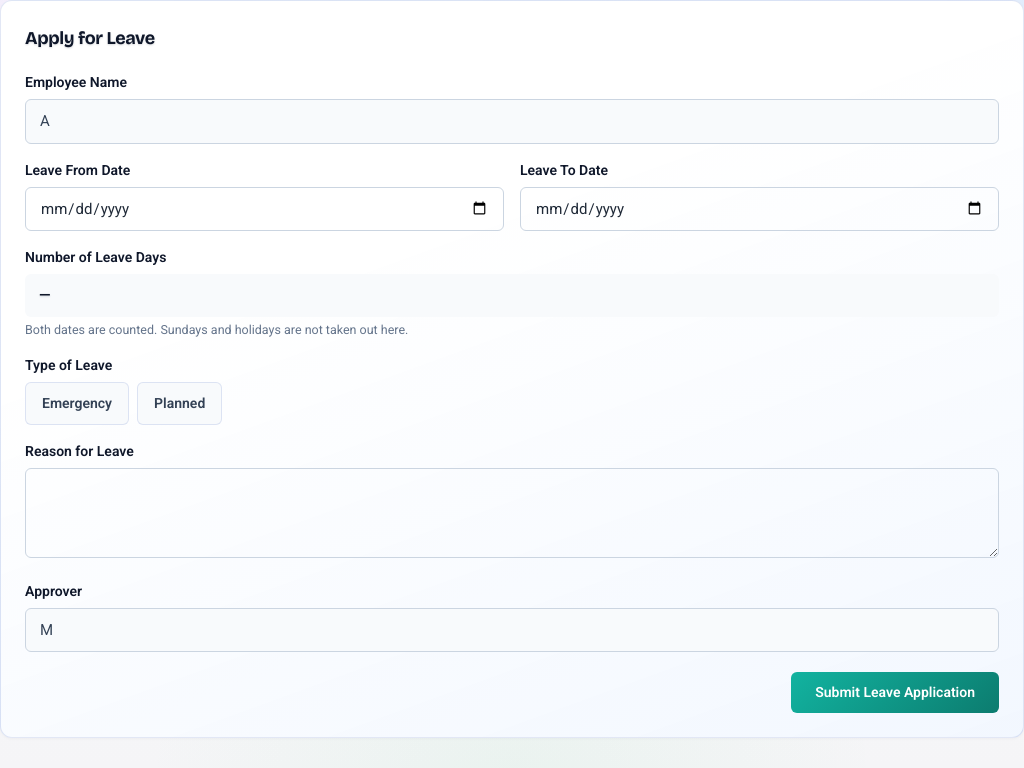
Test: ApplyLeaveForm › calculates the inclusive day count as the dates change
Type "2026-09-15" into the date field labelled "Leave From Date" at (264, 209), box [25,186,504,231]
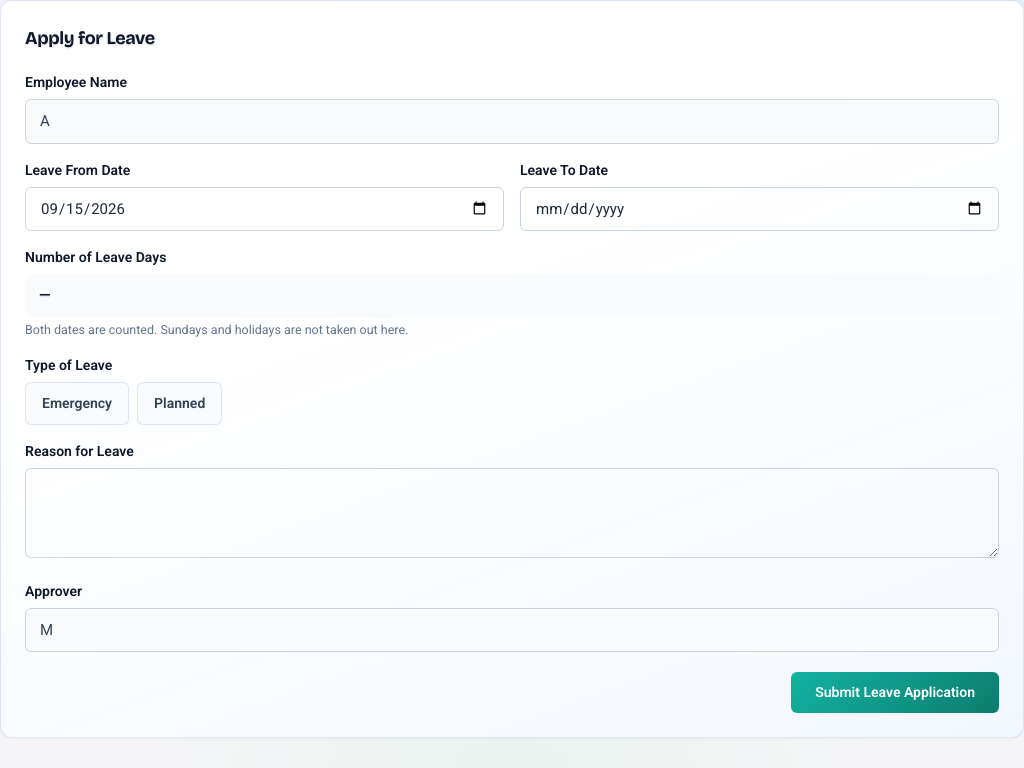
Type "2026-09-21" into the date field labelled "Leave To Date" at (760, 209), box [520,186,999,231]
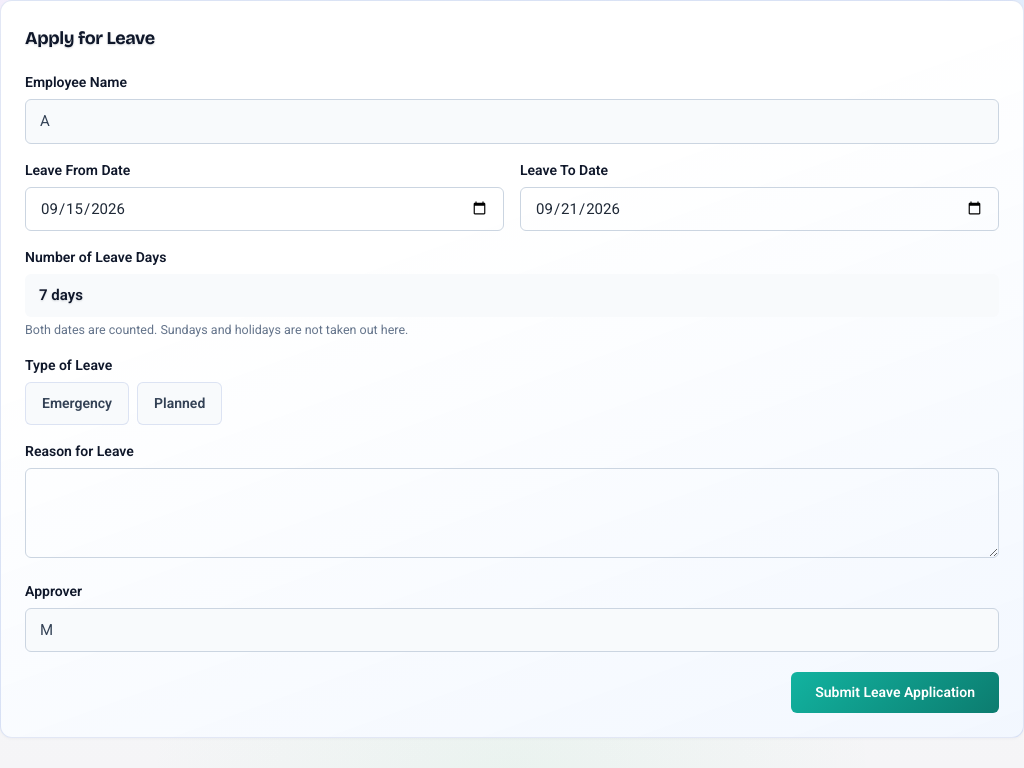
Click the radio button labelled "Planned" at (180, 404), box [137,382,222,425]
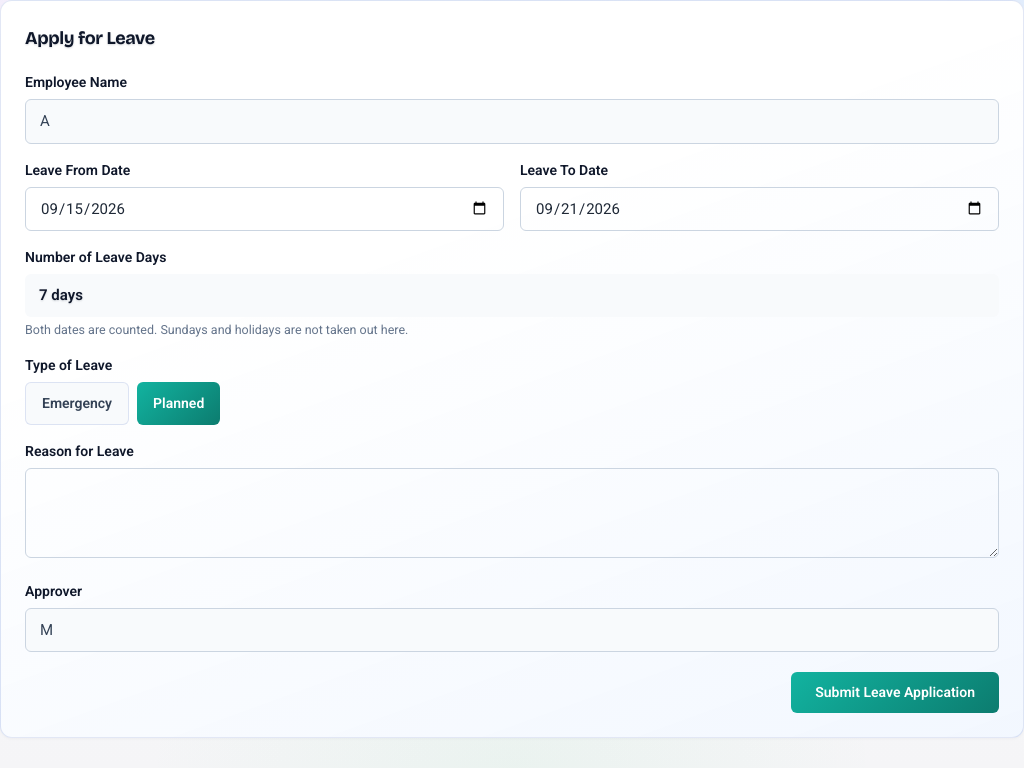
Type "Wedding" into the text box labelled "Reason for Leave" at (512, 513), box [25,468,999,558]
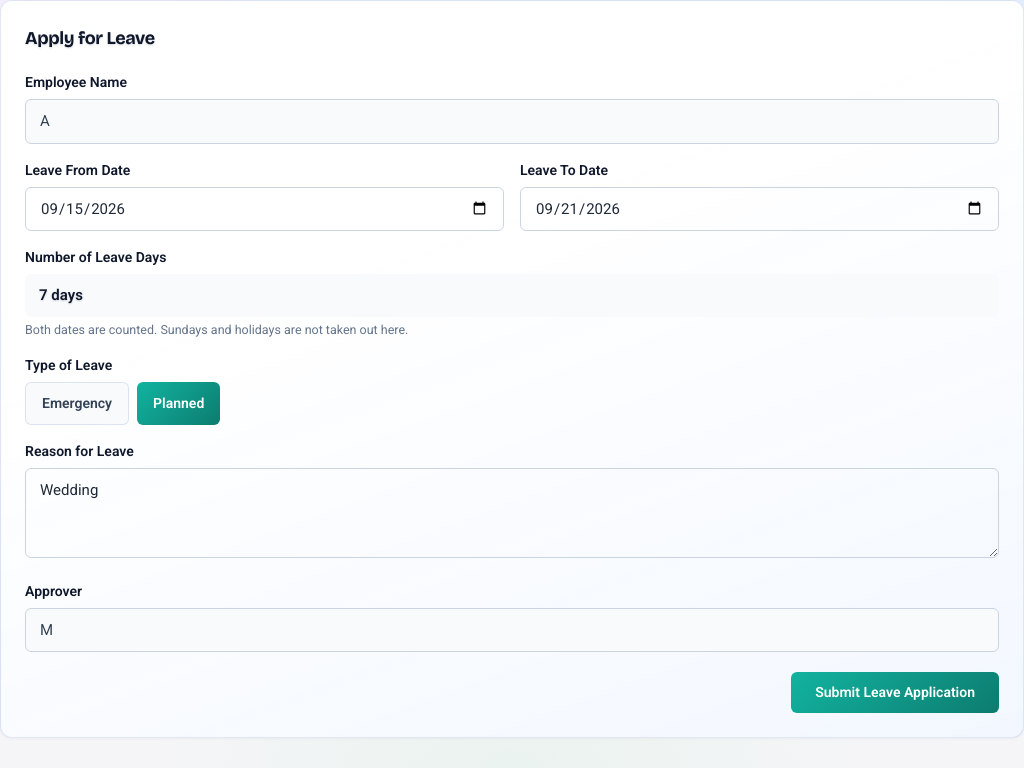
Result: the text "7 days" is shown at [25,274,999,316]
Type "2026-09-15" into the date field labelled "Leave To Date" at (760, 209), box [520,186,999,231]
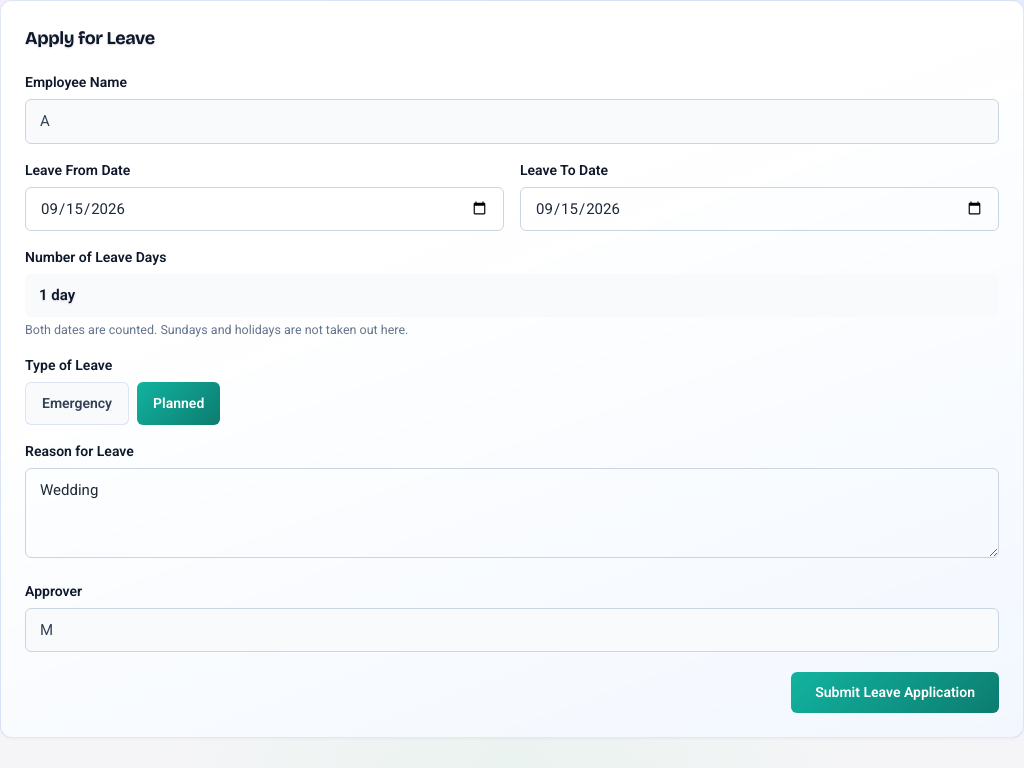
Result: the text "1 day" is shown at [25,274,999,316]
